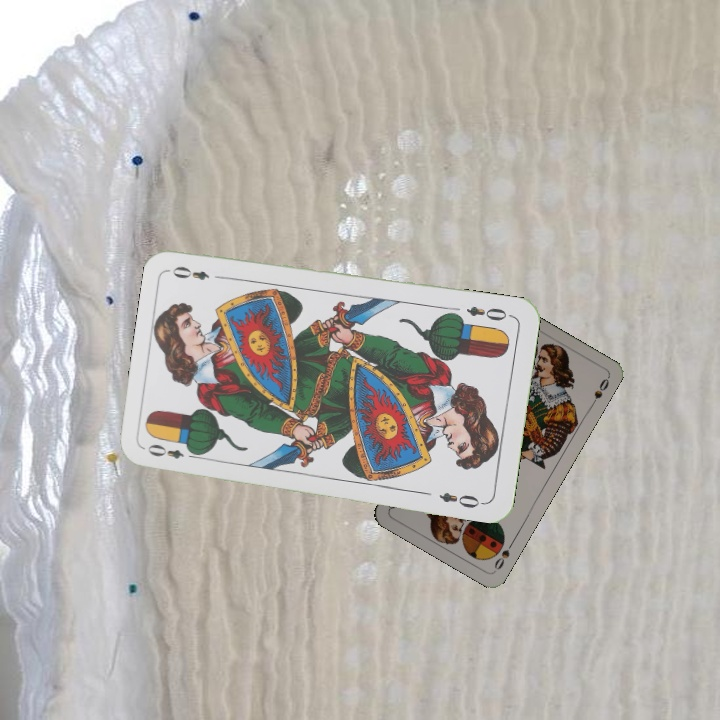EO: (143, 440, 201, 462), (462, 301, 515, 324)
SO: (490, 537, 516, 573)
